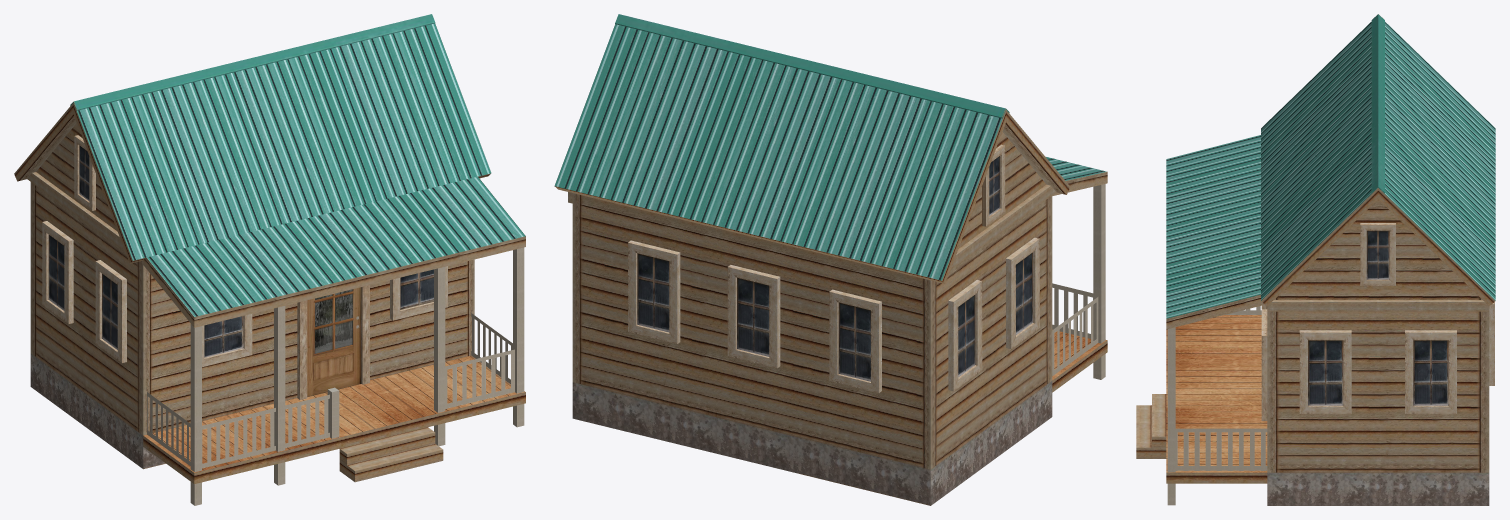
Rendered from Hut.fbx.
The picture shows the model from 3 angles, left to right: view 1: azimuth 30°, elevation 25°; view 2: azimuth 150°, elevation 25°; view 3: azimuth 270°, elevation 25°; orthographic projection. The views are drawn at different scales.
Visible parts, largest first — view 1: Cube.006, Cube, Cube.001, Cube.022, Cube.019, Plane.001, Cube.023, Cube.015, Plane, Cube.012, Cube.013, Cube.021 (+8 smaller); view 2: Cube, Cube.006, Cube.017, Cube.018, Cube.016, Cube.023, Cube.013, Cube.012, Plane.001, Cube.004, Cube.022, Cube.008 (+2 smaller); view 3: Cube, Cube.006, Cube.001, Cube.022, Cube.009, Cube.011, Cube.007, Plane, Cube.023, Cube.010, Cube.015, Cube.002 (+2 smaller).
Part boxes in pixels (<box>): Cube.006: <box>14,23,491,263</box>; Cube: <box>30,123,474,469</box>; Cube.001: <box>141,176,525,327</box>; Cube.022: <box>143,355,525,483</box>; Cube.019: <box>297,285,369,399</box>; Plane.001: <box>147,392,329,468</box>; Cube.023: <box>70,14,435,110</box>; Cube.015: <box>339,427,443,482</box>; Plane: <box>445,313,514,408</box>; Cube.012: <box>95,260,126,362</box>; Cube.013: <box>42,221,73,323</box>; Cube.021: <box>202,314,252,367</box>; Cube: <box>572,132,1052,505</box>; Cube.006: <box>554,24,1070,283</box>; Cube.017: <box>727,265,780,368</box>; Cube.018: <box>829,289,881,393</box>; Cube.016: <box>628,240,680,343</box>; Cube.023: <box>615,14,1009,118</box>; Cube.013: <box>948,280,982,391</box>; Cube.012: <box>1006,237,1039,349</box>; Plane.001: <box>1052,283,1098,375</box>; Cube.004: <box>1093,184,1105,379</box>; Cube.022: <box>1052,329,1107,392</box>; Cube.008: <box>951,184,1056,268</box>; Cube: <box>1267,199,1489,505</box>; Cube.006: <box>1261,22,1495,306</box>; Cube.001: <box>1166,135,1264,329</box>; Cube.022: <box>1166,315,1267,483</box>; Cube.009: <box>1299,330,1351,414</box>; Cube.011: <box>1405,330,1456,414</box>; Cube.007: <box>1267,300,1489,311</box>; Plane: <box>1175,428,1267,470</box>; Cube.023: <box>1371,14,1384,193</box>; Cube.010: <box>1360,223,1395,285</box>; Cube.015: <box>1136,394,1166,458</box>; Cube.002: <box>1167,327,1175,505</box>.
Bounding box in the file's own units: 709 × 623 × 623.
2 materials, 2 textured.
